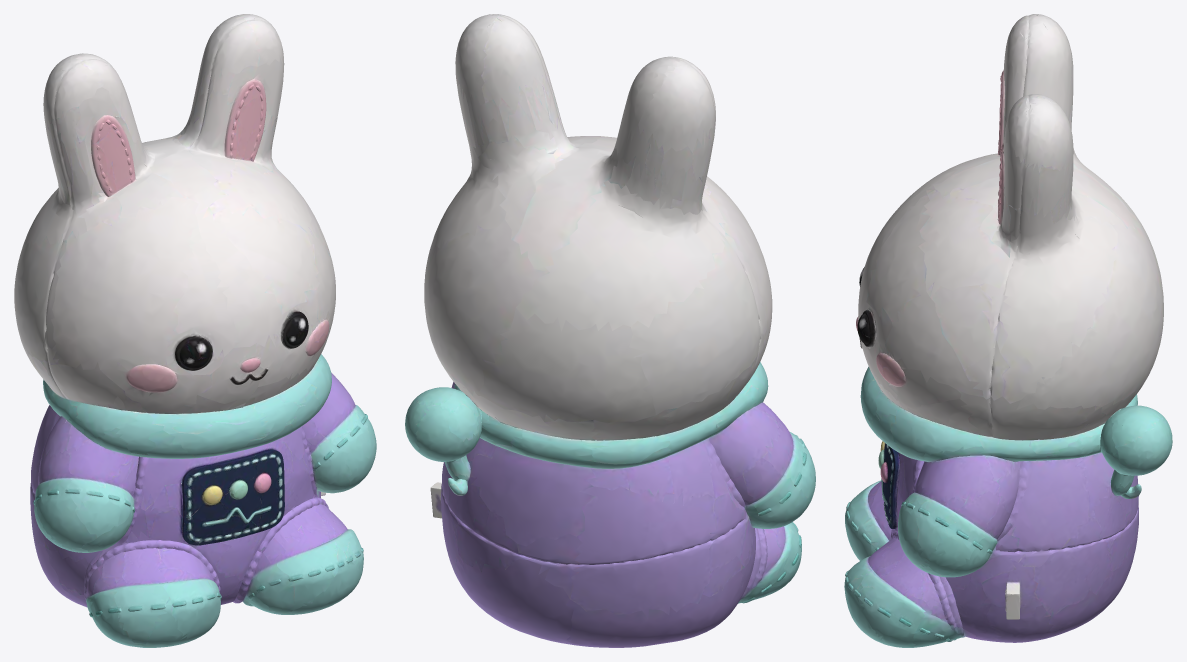
Rendered from spacebunny.gen.glb.
The picture shows the model from 3 angles, left to right: view 1: azimuth 30°, elevation 25°; view 2: azimuth 150°, elevation 25°; view 3: azimuth 270°, elevation 25°; orthographic projection. The views are drawn at different scales.
Visible parts, largest first — view 1: LOD0; view 2: LOD0; view 3: LOD0.
Part boxes in pixels (left/top/right/bottom): LOD0: left=14, top=14, right=376, bottom=647; LOD0: left=405, top=14, right=815, bottom=647; LOD0: left=844, top=14, right=1172, bottom=647.
Size of what is drawn, in the model's own units: 0.149 by 0.23 by 0.1275.
Materials: 1 (1 with a texture image).
